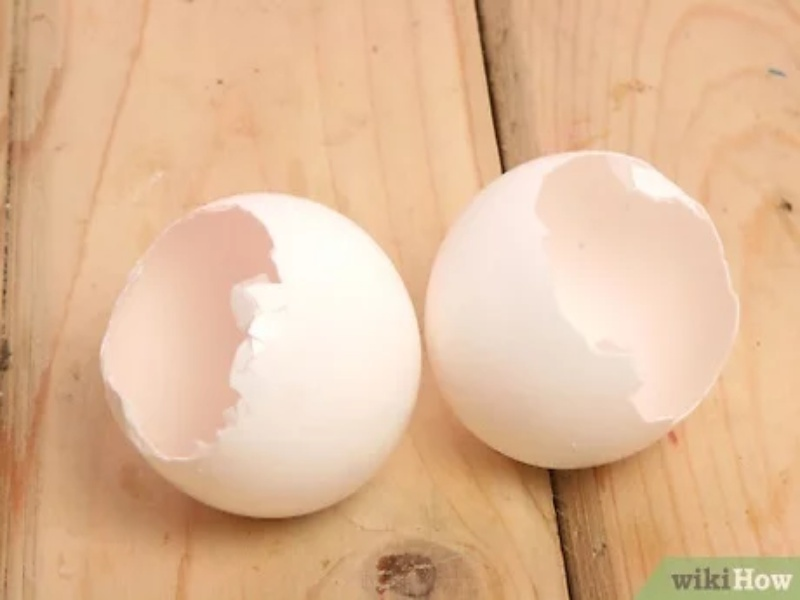Egg_Shells_BioD: (65, 128, 772, 561)
